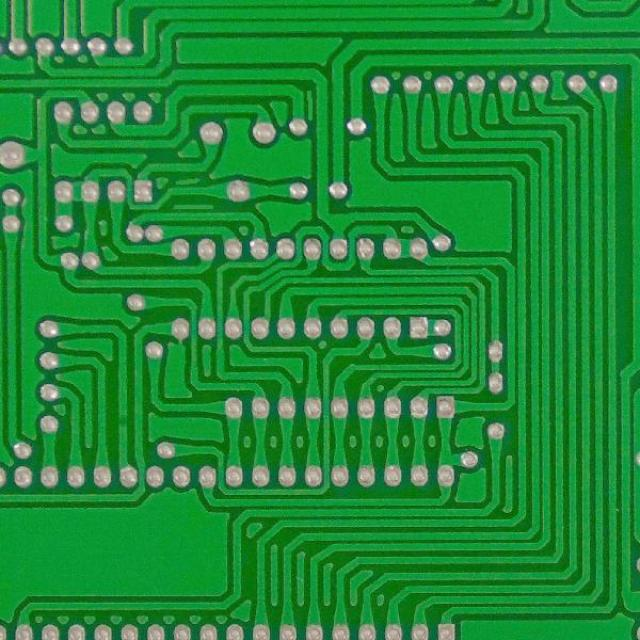Spurious_Cooper: (303, 84, 317, 123), (172, 174, 202, 187)
